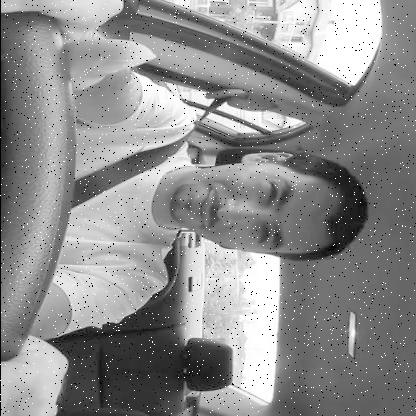seatbelt: (74, 82, 372, 284)
